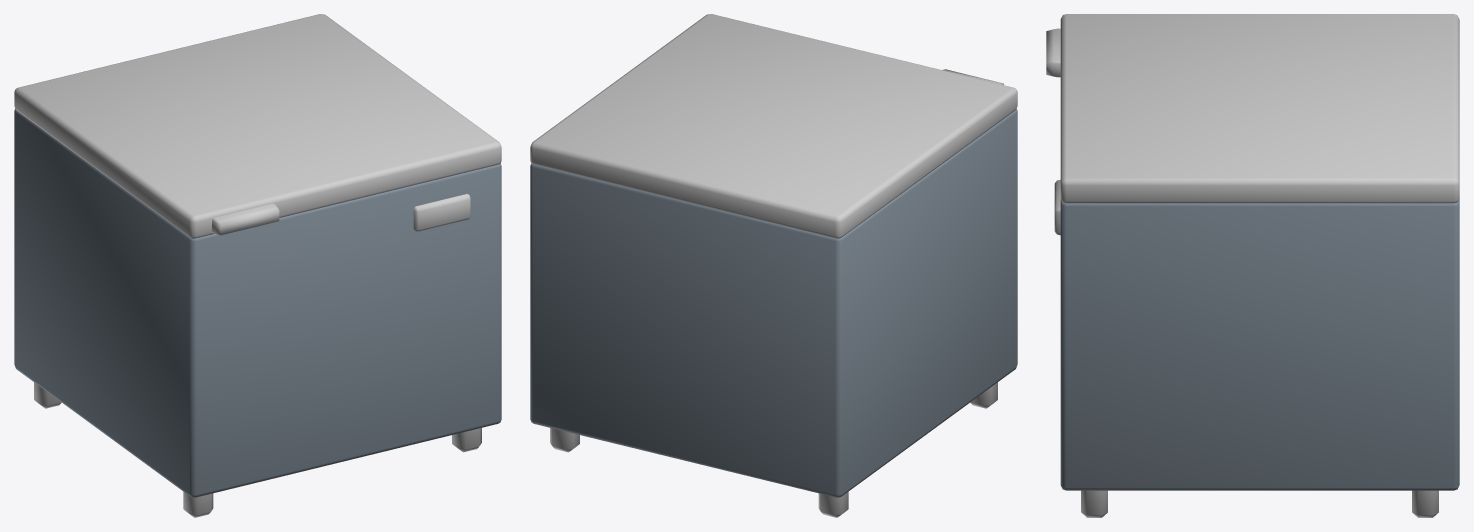
Rendered from Deepfreeze-2.fbx.
3 views of the same model, side by side, from view 1: azimuth 30°, elevation 25°; view 2: azimuth 150°, elevation 25°; view 3: azimuth 270°, elevation 25° (orthographic). The views are drawn at different scales.
Parts seen in each view (by area): view 1: Deepfreeze-1.001, Deepfreeze-1.004; view 2: Deepfreeze-1.001, Deepfreeze-1.004; view 3: Deepfreeze-1.001, Deepfreeze-1.004.
Boxes of the visible parts, left/top/right/bottom form: Deepfreeze-1.001: left=14, top=109, right=501, bottom=517; Deepfreeze-1.004: left=14, top=14, right=501, bottom=238; Deepfreeze-1.001: left=530, top=109, right=1017, bottom=517; Deepfreeze-1.004: left=530, top=14, right=1017, bottom=238; Deepfreeze-1.001: left=1054, top=179, right=1459, bottom=517; Deepfreeze-1.004: left=1046, top=14, right=1459, bottom=203.
Size of the model in its own units: 1 by 0.9561 by 1.04.
